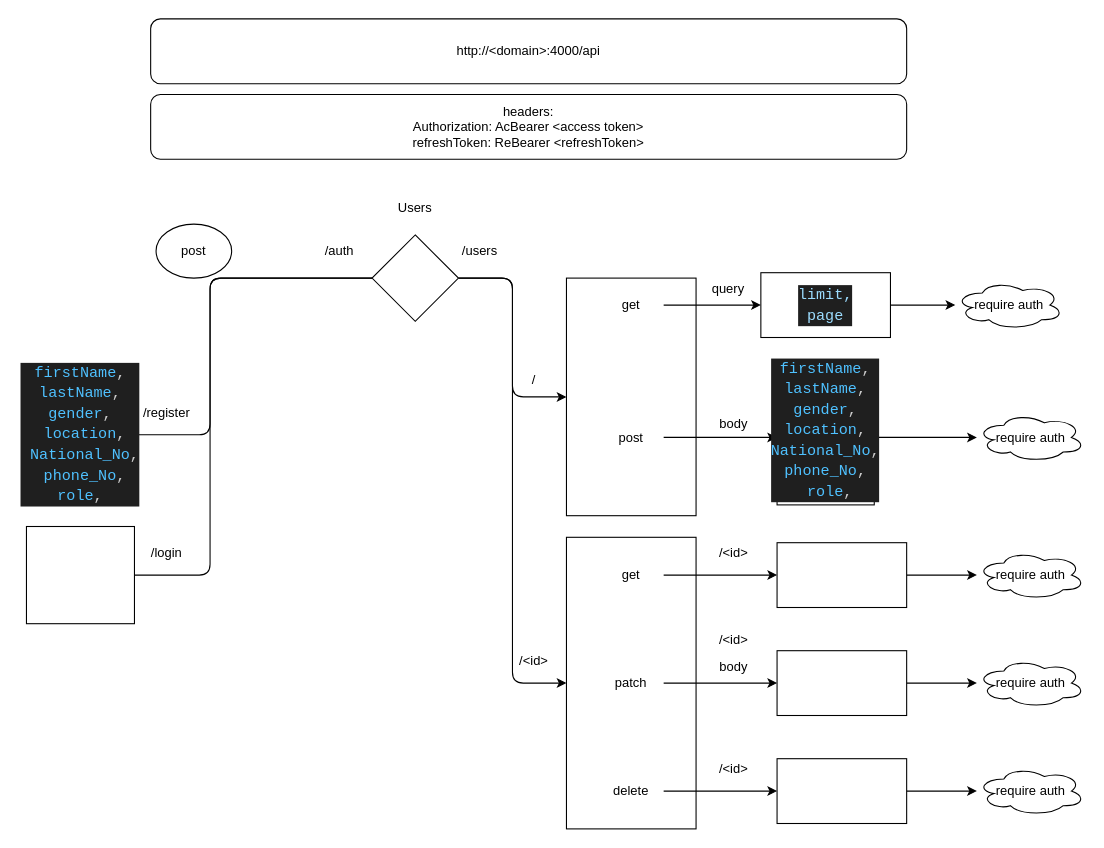
The diagram is 1104 pixels wide and 848 high, and some of its shapes have lost their labels. The shapes that lost their labels are listed below. From the top down, each one's centre as x and y in pixels, then its label:
At (79,574): "phone_No , role".
At (841,683): "user wanted data to update".
